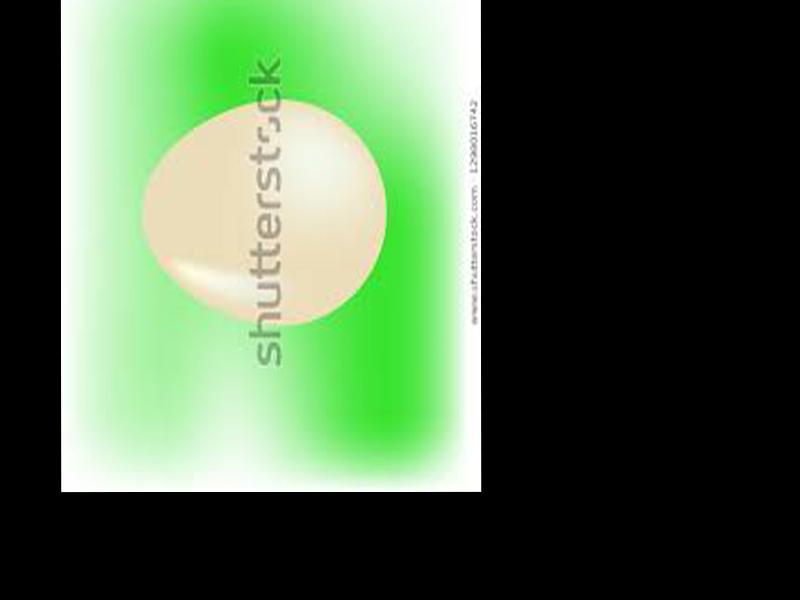Eggs: (142, 98, 385, 324)
